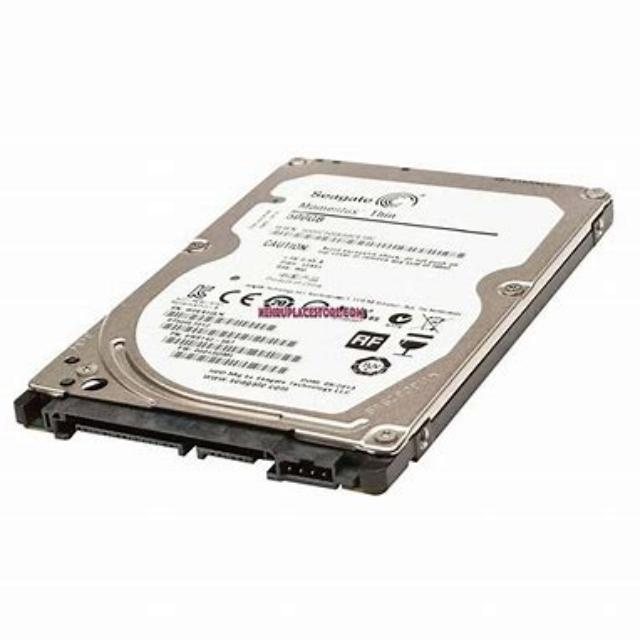HDD: (13, 157, 617, 498)
